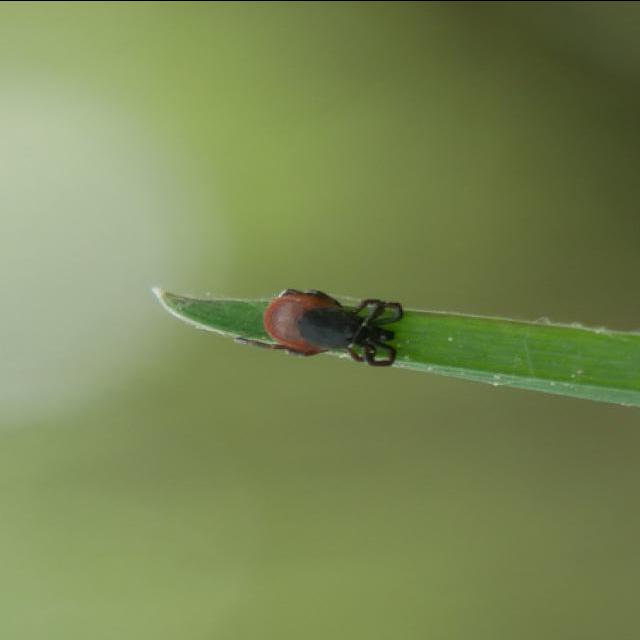Ixodes Ricinus-F: (233, 287, 407, 366)
